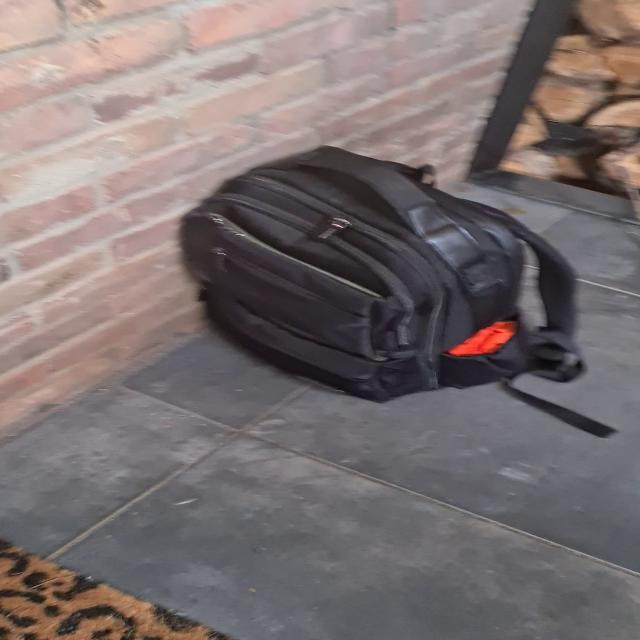backpack: (166, 139, 588, 408)
